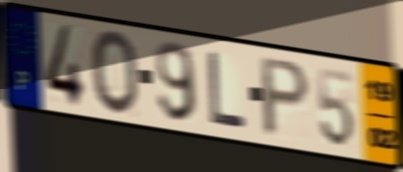4: (44, 20, 87, 110)
5: (315, 64, 357, 149)
9: (153, 40, 199, 125)
L: (205, 48, 249, 130)
O: (88, 27, 141, 118)
P: (259, 54, 313, 140)
